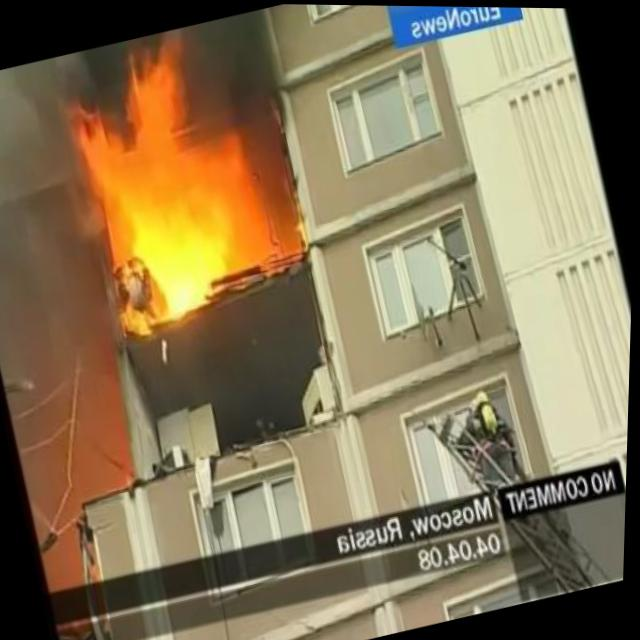fire: (45, 22, 264, 340)
